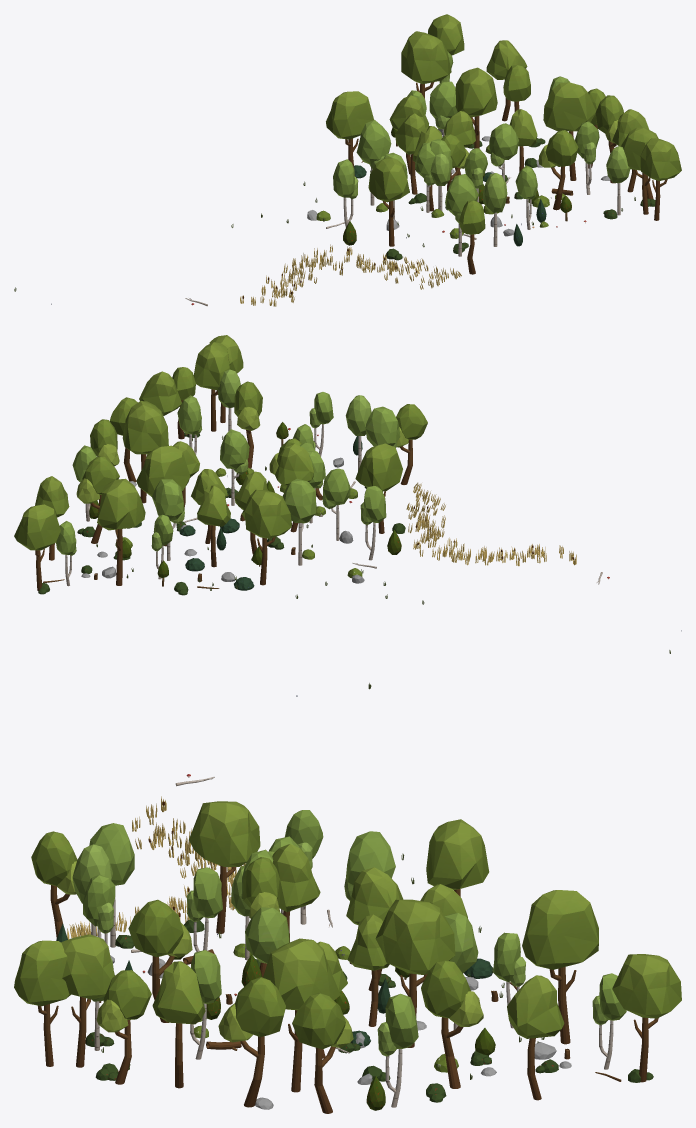
The model's file is Foliage4.gltf.
The picture shows the model from 3 angles, top to bottom: view 1: azimuth 30°, elevation 25°; view 2: azimuth 150°, elevation 25°; view 3: azimuth 270°, elevation 25°; orthographic projection. The views are drawn at different scales.
Parts seen in each view (by area): view 1: Beechtree3 - copy.024, Beechtree3 - copy.015, Beechtree3 - copy.011, Beechtree3 - copy.027, Beechtree3 - copy.023, Beechtree3 - copy.032, Beechtree2 - copy.014, BirchTree3 - copy.017, Beechtree3 - copy.020, Beechtree1 - copy.003, BirchTree3 - copy.029, BirchTree3 - copy.004 (+20 smaller); view 2: Beechtree3 - copy.024, Beechtree3 - copy.011, Beechtree3 - copy.015, Beechtree3 - copy.037, Beechtree3 - copy.027, Beechtree3 - copy.023, Beechtree3 - copy.020, Beechtree2 - copy.026, BirchTree3 - copy.017, Beechtree2 - copy.014, Beechtree1 - copy.038, Beechtree1 - copy.012 (+22 smaller); view 3: Beechtree3 - copy.024, Beechtree3 - copy.027, Beechtree3 - copy.023, Beechtree3 - copy.015, Beechtree3 - copy.037, Beechtree2 - copy.002, Beechtree3 - copy.011, Beechtree2 - copy.026, Beechtree3 - copy.032, Beechtree3 - copy.020, Beechtree2 - copy.033, Beechtree1 - copy.003 (+21 smaller).
Boxes of the visible parts, left/top/right/bottom form: Beechtree3 - copy.024: left=401, top=31, right=451, bottom=98; Beechtree3 - copy.015: left=543, top=82, right=595, bottom=180; Beechtree3 - copy.011: left=326, top=91, right=373, bottom=175; Beechtree3 - copy.027: left=455, top=67, right=497, bottom=148; Beechtree3 - copy.023: left=368, top=157, right=409, bottom=246; Beechtree3 - copy.032: left=640, top=138, right=681, bottom=220; Beechtree2 - copy.014: left=538, top=130, right=578, bottom=210; BirchTree3 - copy.017: left=356, top=120, right=391, bottom=205; Beechtree3 - copy.020: left=621, top=127, right=658, bottom=214; Beechtree1 - copy.003: left=486, top=40, right=527, bottom=121; BirchTree3 - copy.029: left=445, top=174, right=478, bottom=256; BirchTree3 - copy.004: left=489, top=123, right=518, bottom=180; Beechtree3 - copy.024: left=97, top=478, right=145, bottom=585; Beechtree3 - copy.011: left=242, top=489, right=291, bottom=585; Beechtree3 - copy.015: left=122, top=401, right=168, bottom=503; Beechtree3 - copy.037: left=14, top=504, right=60, bottom=591; Beechtree3 - copy.027: left=136, top=445, right=190, bottom=546; Beechtree3 - copy.023: left=355, top=443, right=402, bottom=533; Beechtree3 - copy.020: left=193, top=342, right=230, bottom=431; Beechtree2 - copy.026: left=76, top=457, right=119, bottom=543; BirchTree3 - copy.017: left=282, top=478, right=316, bottom=565; Beechtree2 - copy.014: left=234, top=381, right=262, bottom=468; Beechtree1 - copy.038: left=197, top=485, right=230, bottom=567; Beechtree1 - copy.012: left=275, top=443, right=314, bottom=532; Beechtree3 - copy.024: left=522, top=890, right=598, bottom=1044; Beechtree3 - copy.027: left=375, top=899, right=455, bottom=1047; Beechtree3 - copy.023: left=189, top=801, right=260, bottom=933; Beechtree3 - copy.015: left=263, top=938, right=340, bottom=1092; Beechtree3 - copy.037: left=612, top=954, right=681, bottom=1082; Beechtree2 - copy.002: left=218, top=977, right=285, bottom=1107; Beechtree3 - copy.011: left=426, top=819, right=489, bottom=896; Beechtree2 - copy.026: left=421, top=960, right=483, bottom=1088; Beechtree3 - copy.032: left=14, top=940, right=70, bottom=1066; Beechtree3 - copy.020: left=61, top=934, right=114, bottom=1067; Beechtree2 - copy.033: left=292, top=992, right=353, bottom=1113; Beechtree1 - copy.003: left=507, top=975, right=564, bottom=1100.
Bounding box in the file's own units: 79.83 × 14.04 × 52.06.
33 materials, 33 textured.
